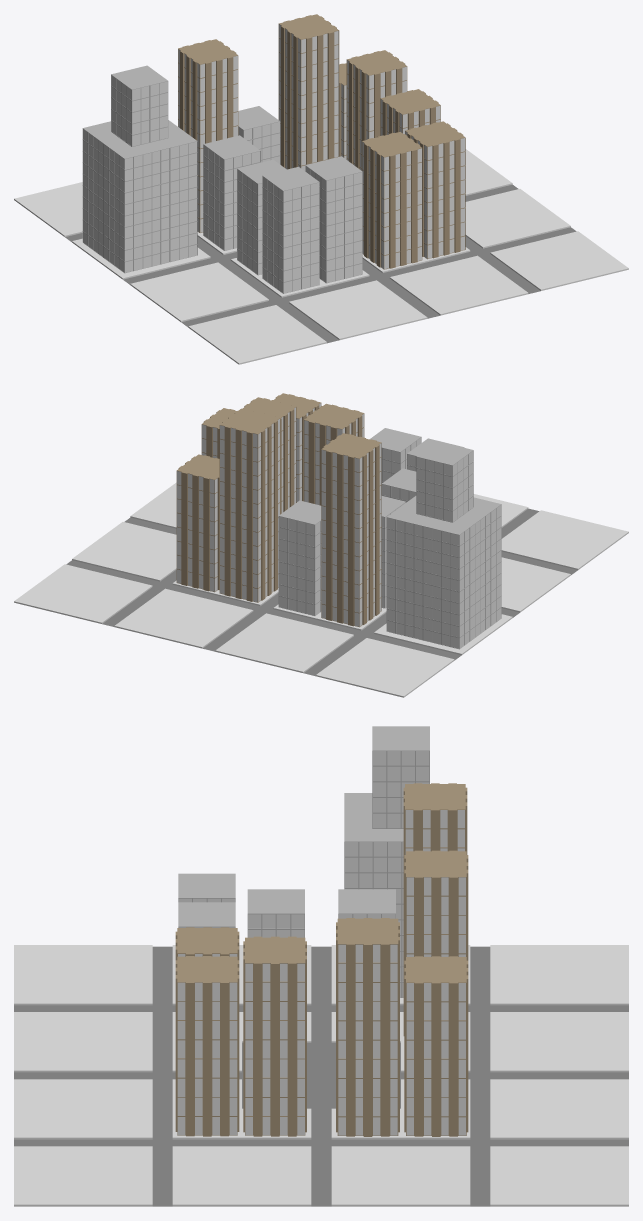
The model's file is city.glb.
3 renders of one model, top to bottom at view 1: azimuth 30°, elevation 25°; view 2: azimuth 150°, elevation 25°; view 3: azimuth 270°, elevation 25°, orthographic. The views are drawn at different scales.
Parts seen in each view (by area): view 1: Plane.001, Cube.029, Cube.030, Cube.022, Cube.020, Cube.033, Cube.031, Cube.021, Cube.025, Cube.027, Cube.034, Cube.026 (+5 smaller); view 2: Plane.001, Cube.029, Cube.033, Cube.023, Cube.028, Cube.024, Cube.035, Cube.026, Cube.030, Cube.022, Cube.032, Cube.021 (+4 smaller); view 3: Plane.001, Cube.027, Cube.032, Cube.031, Cube.028, Cube.029, Cube.026, Cube.033, Cube.025, Cube.019, Cube.030, Cube.020 (+3 smaller).
Part boxes in pixels (<box>): Plane.001: <box>14,149,628,364</box>; Cube.029: <box>278,14,339,170</box>; Cube.030: <box>362,132,422,269</box>; Cube.022: <box>103,139,161,273</box>; Cube.020: <box>262,166,319,293</box>; Cube.033: <box>178,39,238,232</box>; Cube.031: <box>405,121,465,259</box>; Cube.021: <box>305,156,362,283</box>; Cube.025: <box>151,125,197,264</box>; Cube.027: <box>346,50,407,170</box>; Cube.034: <box>203,135,260,250</box>; Cube.026: <box>111,65,168,146</box>; Plane.001: <box>14,482,628,697</box>; Cube.029: <box>219,409,280,602</box>; Cube.033: <box>321,433,381,627</box>; Cube.023: <box>423,515,480,649</box>; Cube.028: <box>176,454,219,592</box>; Cube.024: <box>386,502,433,640</box>; Cube.035: <box>278,500,321,615</box>; Cube.026: <box>416,441,473,522</box>; Cube.030: <box>304,403,364,505</box>; Cube.022: <box>463,497,501,633</box>; Cube.032: <box>238,397,296,514</box>; Cube.021: <box>369,428,421,483</box>; Plane.001: <box>14,945,628,1206</box>; Cube.027: <box>336,918,399,1136</box>; Cube.032: <box>243,936,306,1136</box>; Cube.031: <box>175,956,239,1136</box>; Cube.028: <box>404,956,468,1136</box>; Cube.029: <box>404,850,468,960</box>; Cube.026: <box>372,726,429,828</box>; Cube.033: <box>403,783,467,1035</box>; Cube.025: <box>344,817,401,997</box>; Cube.019: <box>247,889,304,937</box>; Cube.030: <box>175,927,239,960</box>; Cube.020: <box>178,873,235,902</box>.
Size of the model in its own units: 37.4 by 15.87 by 37.4.
